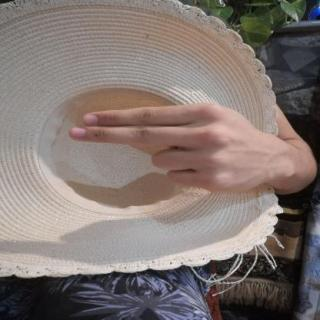AYN: (56, 92, 302, 206)
